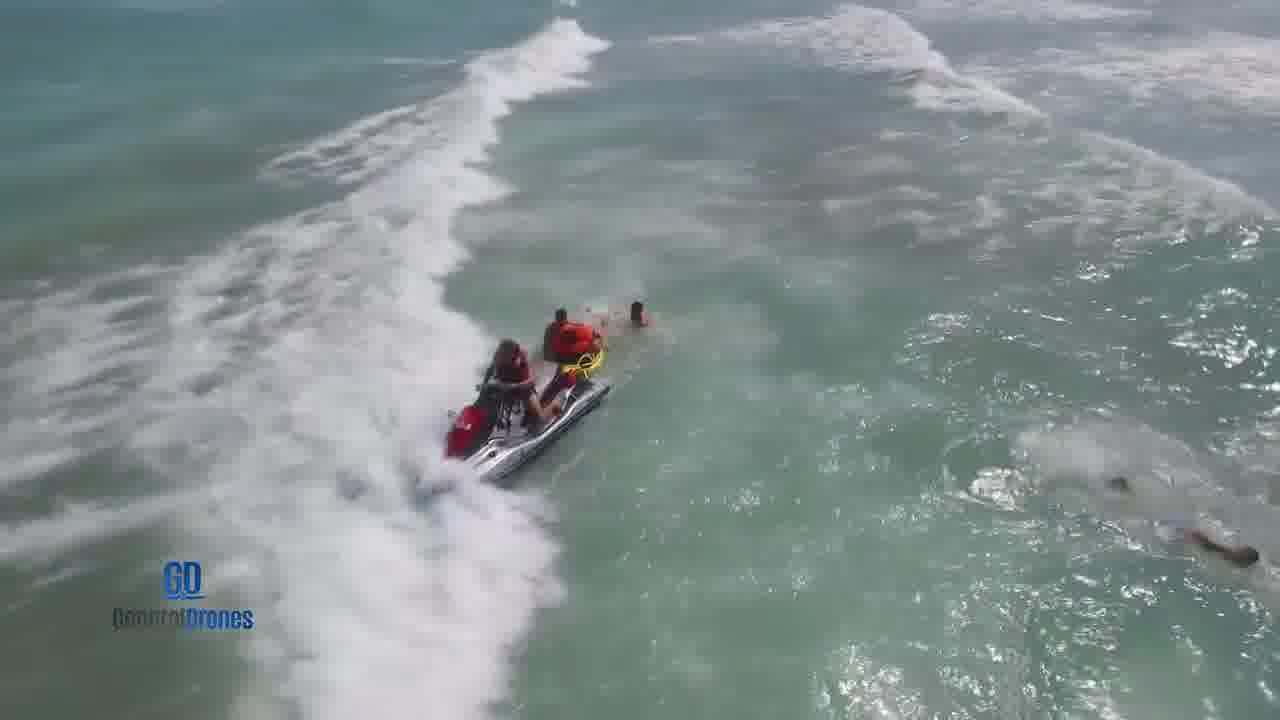human: (1194, 515, 1276, 581), (539, 306, 603, 365), (611, 278, 665, 336)
